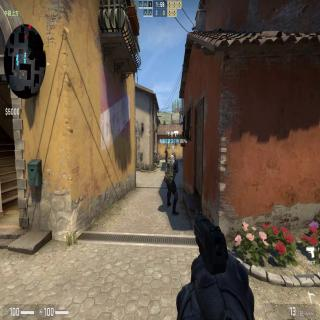CT-Body: (164, 152, 180, 216)
CT-Head: (172, 152, 176, 159)
T-Body: (164, 148, 168, 163)
